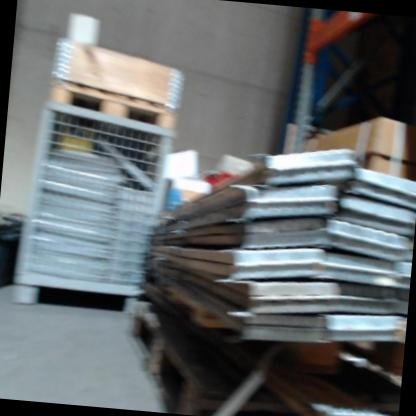pallet: (123, 300, 282, 416), (45, 74, 181, 132)
stillage: (10, 90, 181, 318)
